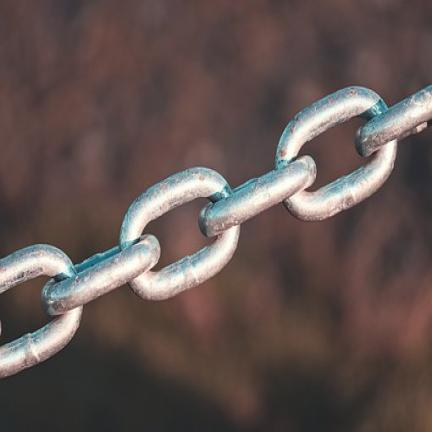besi_tidak_karat: (0, 87, 431, 377)
